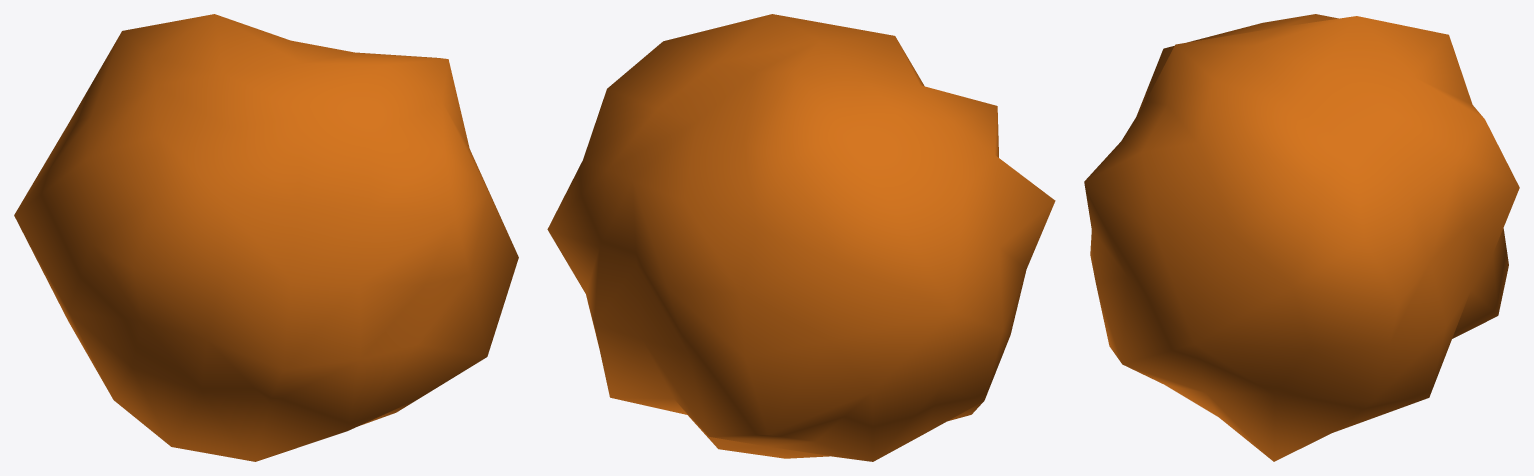
Rendered from CornerVUlcano.fbx.
The picture shows the model from 3 angles, left to right: view 1: azimuth 30°, elevation 25°; view 2: azimuth 150°, elevation 25°; view 3: azimuth 270°, elevation 25°; orthographic projection. The views are drawn at different scales.
Parts seen in each view (by area): view 1: Cube.003; view 2: Cube.003; view 3: Cube.003.
Boxes of the visible parts, x1=… form: Cube.003: x1=14, y1=14, x2=518, y2=461; Cube.003: x1=547, y1=14, x2=1055, y2=461; Cube.003: x1=1084, y1=14, x2=1519, y2=461.
Bounding box in the file's own units: 640 × 605 × 628.
